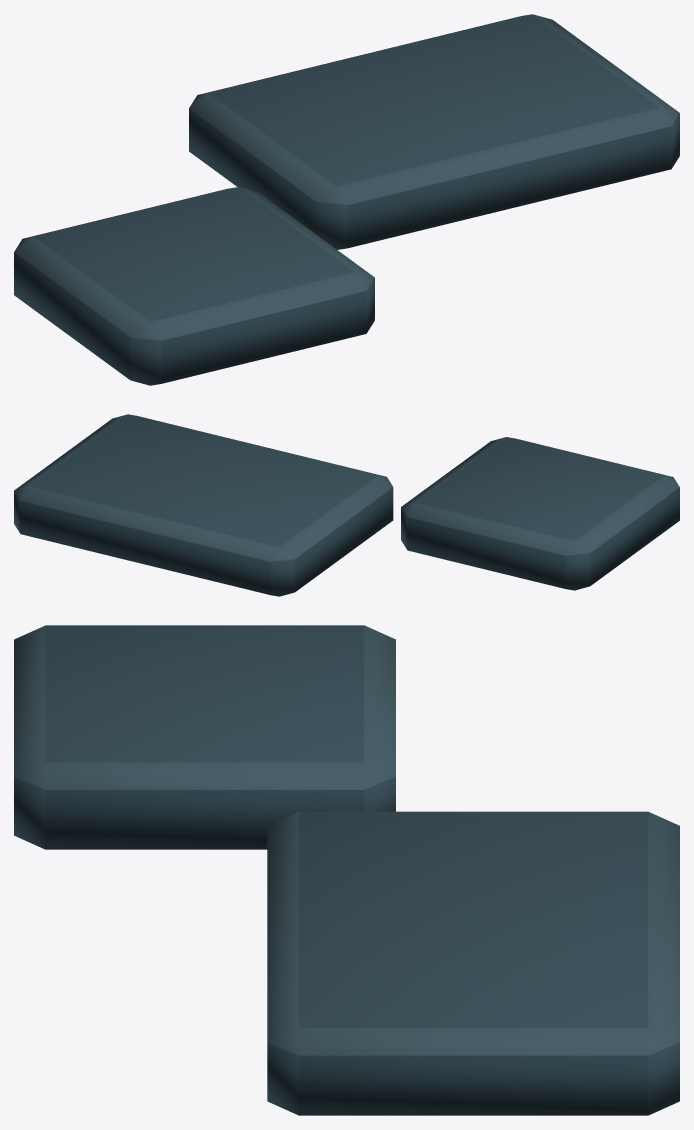
File: stone_path_10.fbx
The picture shows the model from 3 angles, top to bottom: view 1: azimuth 30°, elevation 25°; view 2: azimuth 150°, elevation 25°; view 3: azimuth 270°, elevation 25°; orthographic projection. The views are drawn at different scales.
Visible parts, largest first — view 1: stone_path_10; view 2: stone_path_10; view 3: stone_path_10.
Part boxes in pixels (x1,y1,x2,y2): stone_path_10: (14, 14, 679, 385); stone_path_10: (14, 414, 679, 596); stone_path_10: (14, 625, 679, 1115).
Bounding box in the file's own units: 192 × 18.28 × 126.
